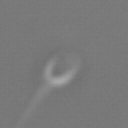normal: (10, 82, 51, 128)
